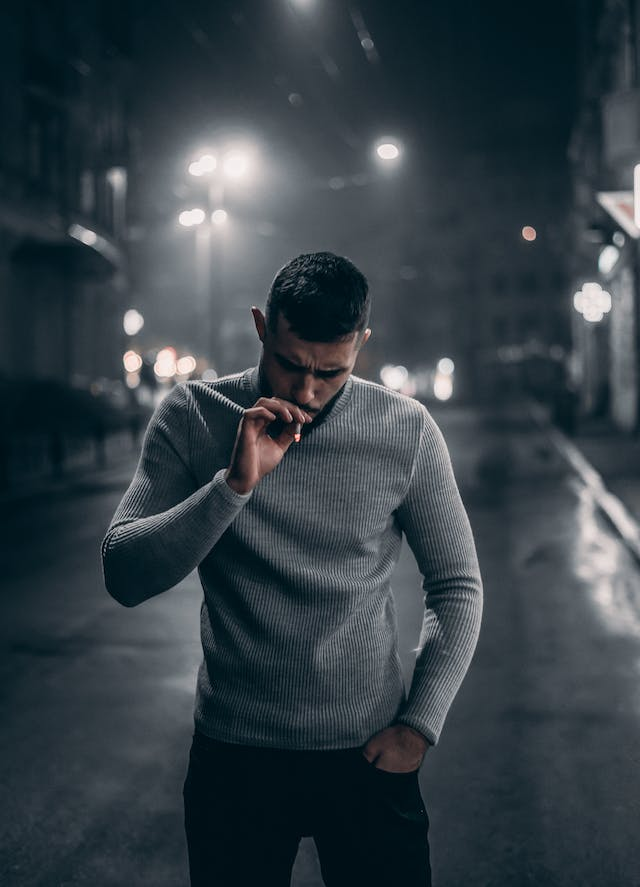Cigarette: (293, 420, 301, 444)
